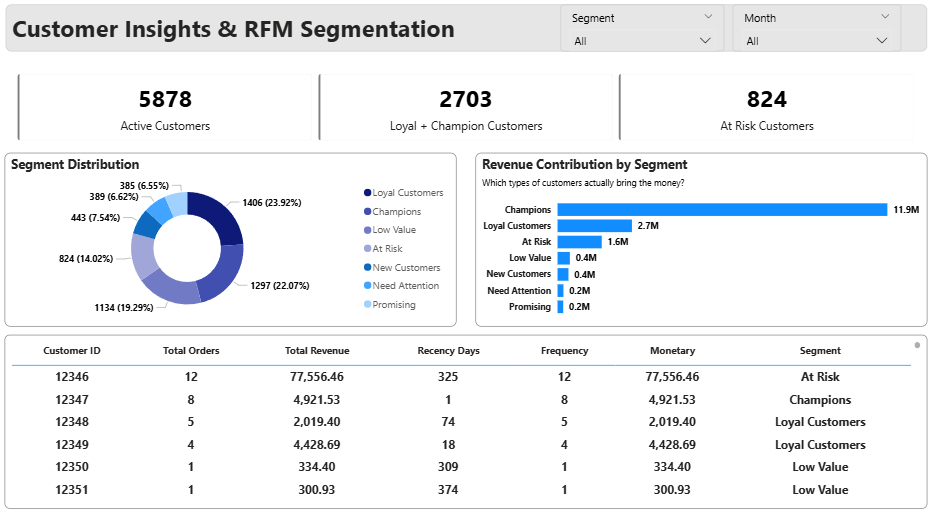

This screenshot's page, from the dashboard's own definition file:
{"tool":"powerbi","page":{"name":"Customer Insights & RFM Segmentation","canvas":[1280,720],"ordinal":1},"visuals":[{"type":"textbox","box":[10.9,7.8,1258.9,64.1],"z":0},{"type":"cardVisual","fields":{"Data":["Count(customers.CustomerID)","_Measures.Loyal_Champion_Count","_Measures.At_Risk_Count"]},"box":[9.4,84.4,1260.5,125.1],"z":1000},{"type":"barChart","title":"Revenue Contribution by Segment","fields":{"Category":["customers.Segment"],"Y":["Sum(customers.Monetary)"]},"box":[652.1,209.6,617.7,237.7],"z":2000},{"type":"donutChart","title":"Segment Distribution","fields":{"Category":["customers.Segment"],"Y":["CountNonNull(customers.CustomerID)"]},"box":[9.4,209.6,617.7,237.7],"z":3000},{"type":"tableEx","fields":{"Values":["customers.CustomerID","Sum(customers.TotalOrders)","Sum(customers.TotalRevenue)","Sum(customers.RecencyDays)","Sum(customers.Frequency)","Sum(customers.Monetary)","customers.Segment"]},"box":[9.4,458.2,1260.5,237.7],"z":4000},{"type":"slicer","fields":{"Values":["customers.Segment"]},"box":[767.9,7.8,223.6,64.1],"z":5000},{"type":"slicer","fields":{"Values":["customers.Month"]},"box":[1004,7.8,229.9,64.1],"z":6000}]}

Visuals, with their boxes in screenshot pixels (x1, y1, x2, y2), scaled from the page's 1280x720 canvas onto the 933x518 screenshot:
textbox: BBox(8, 6, 926, 52)
cardVisual - Count(customers.CustomerID) x _Measures.Loyal_Champion_Count: BBox(7, 61, 926, 151)
"Revenue Contribution by Segment" barChart: BBox(475, 151, 926, 322)
"Segment Distribution" donutChart: BBox(7, 151, 457, 322)
tableEx - customers.CustomerID x Sum(customers.TotalOrders): BBox(7, 330, 926, 501)
slicer - customers.Segment: BBox(560, 6, 723, 52)
slicer - customers.Month: BBox(732, 6, 899, 52)
